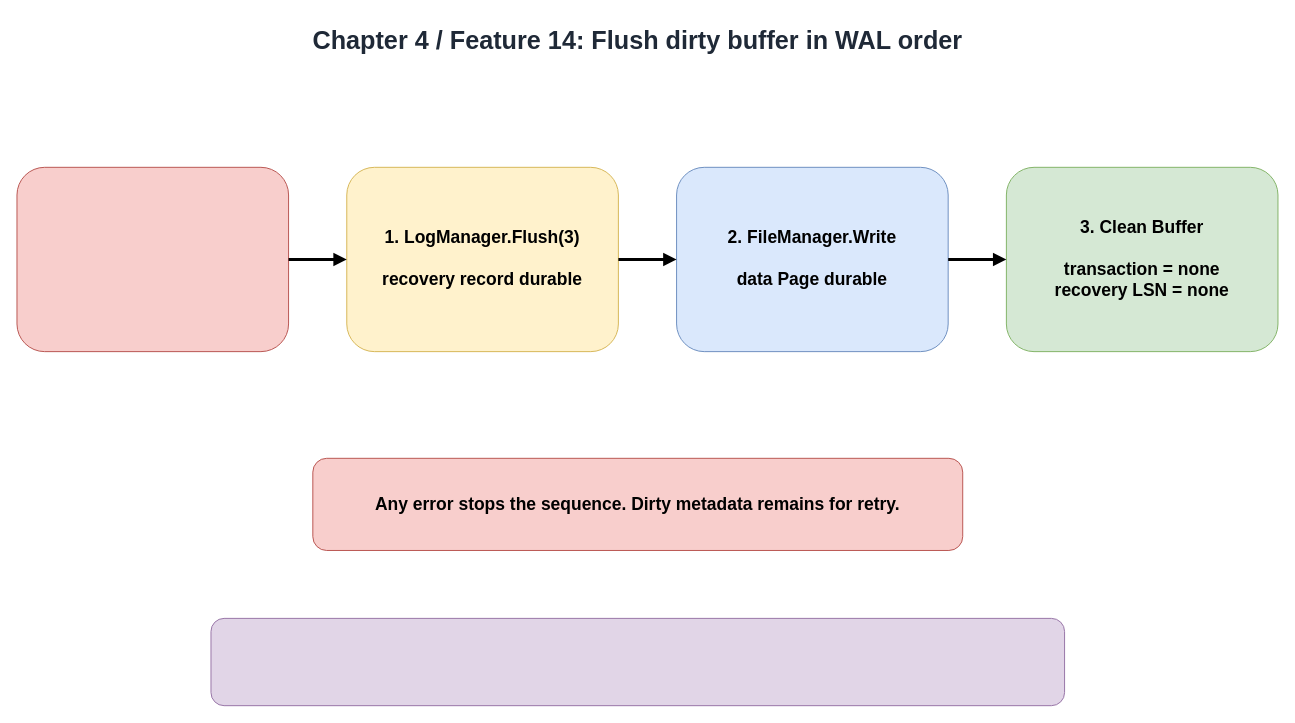
The diagram is 1295 pixels wide and 723 high, and some of its shapes have lost their labels. Each missing label, with the centre of its shape:
Dirty Buffer transaction = 7 recovery LSN = 3: the point at 152,259
Write-ahead rule: recovery log becomes durable before the data Page.: the point at 637,661
